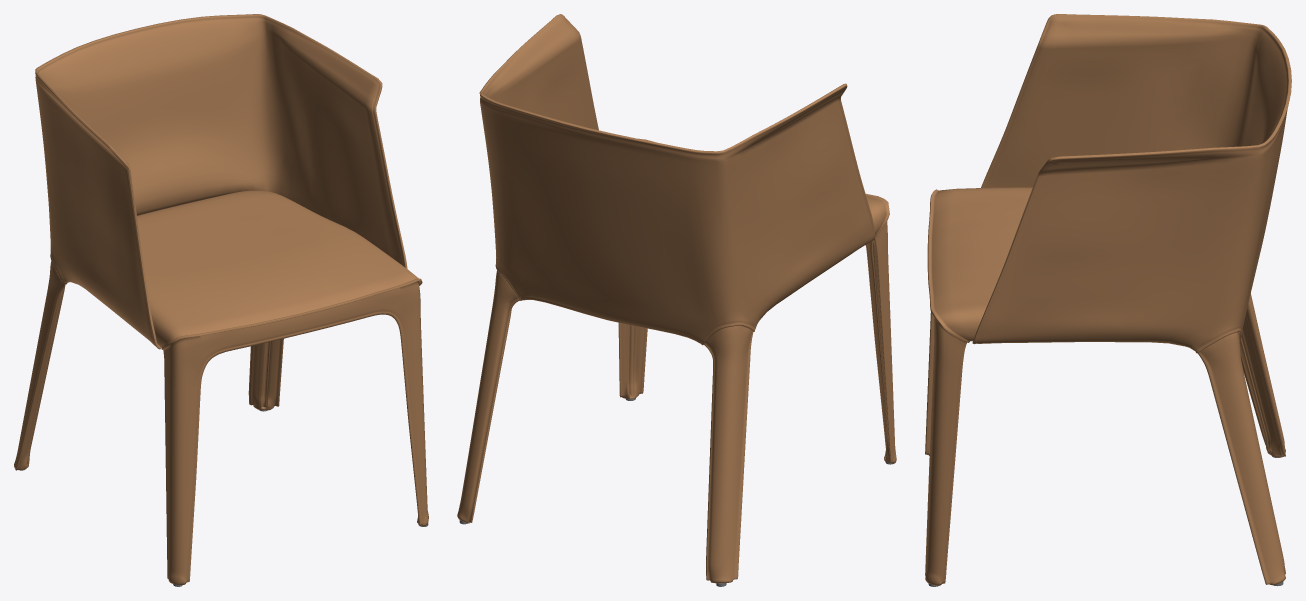
The model's file is isabelarmchair.gltf.
The picture shows the model from 3 angles, left to right: view 1: azimuth 30°, elevation 25°; view 2: azimuth 150°, elevation 25°; view 3: azimuth 270°, elevation 25°; orthographic projection. The views are drawn at different scales.
Parts seen in each view (by area): view 1: isabelarmchair; view 2: isabelarmchair; view 3: isabelarmchair.
Boxes of the visible parts, <box> form: isabelarmchair: <box>14,14,428,586</box>; isabelarmchair: <box>457,14,896,586</box>; isabelarmchair: <box>925,14,1291,586</box>.
Bounding box in the file's own units: 0.5198 × 0.74 × 0.56.
1 material, 1 textured.
